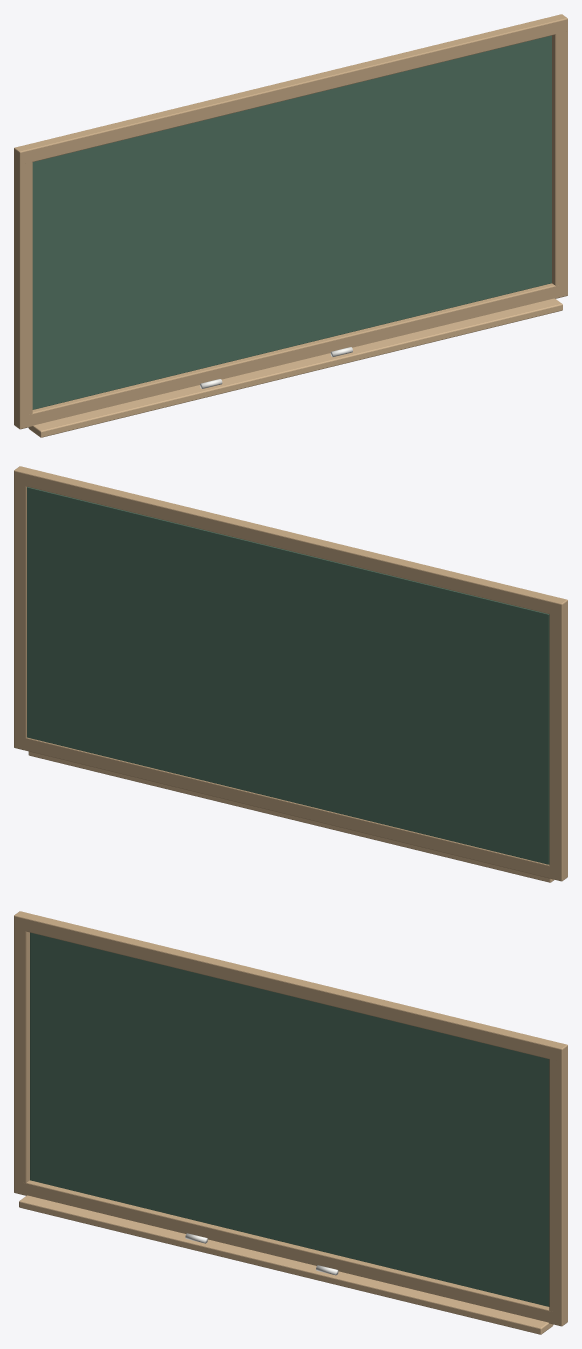
The model's file is classroom_blackboard.glb.
3 renders of one model, top to bottom at view 1: azimuth 30°, elevation 25°; view 2: azimuth 150°, elevation 25°; view 3: azimuth 330°, elevation 25°, orthographic.
Visible parts, largest first — view 1: board_surface, frame_top, frame_bot, chalk_tray, frame_l, frame_r; view 2: board_surface, frame_top, frame_bot, frame_l, frame_r, chalk_tray; view 3: board_surface, frame_top, frame_bot, chalk_tray, frame_r, frame_l.
Boxes of the visible parts, x1,y1,x2,y2 form: board_surface: (32,35,551,409); frame_top: (14,17,567,164); frame_bot: (14,283,567,428); chalk_tray: (28,298,562,437); frame_l: (14,145,32,429); frame_r: (551,14,567,298); board_surface: (27,487,549,864); frame_top: (14,469,567,616); frame_bot: (14,735,564,881); frame_l: (549,597,567,881); frame_r: (14,466,30,750); chalk_tray: (28,751,554,882); board_surface: (30,932,549,1306); frame_top: (14,914,561,1061); frame_bot: (14,1180,561,1325); chalk_tray: (19,1195,553,1334); frame_r: (549,1042,567,1326); frame_l: (14,911,30,1195).
Size of the model in its own units: 2.52 by 1.25 by 0.1131.
